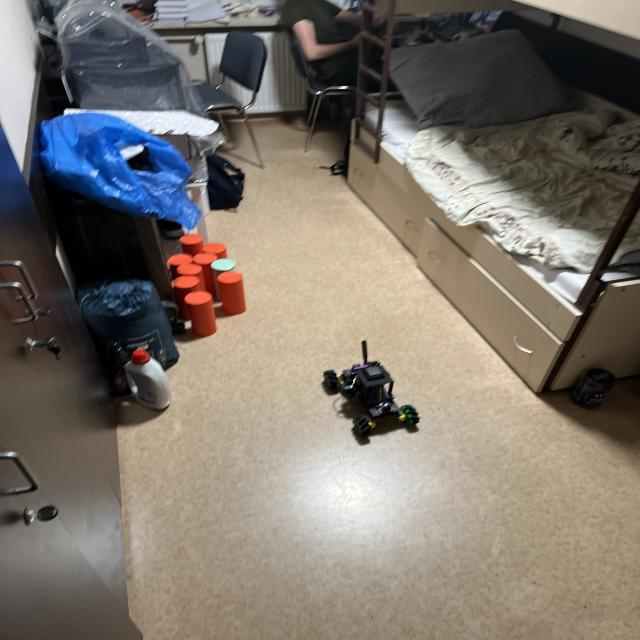robot: (322, 341, 419, 437)
